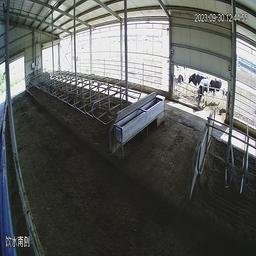cow: (196, 73, 209, 108), (176, 67, 186, 102), (221, 86, 228, 118)
